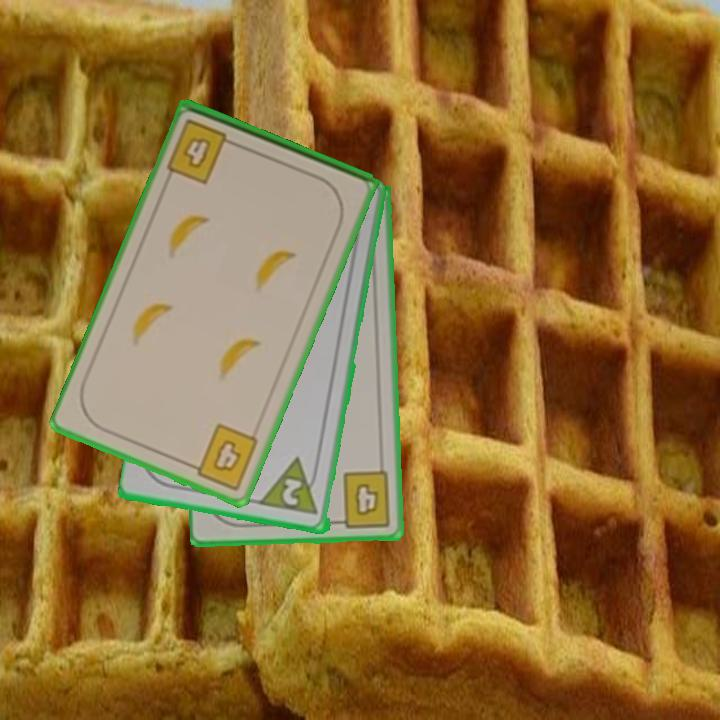2p: (259, 455, 323, 518)
4b: (184, 420, 262, 493), (163, 116, 242, 187), (330, 468, 394, 530)
